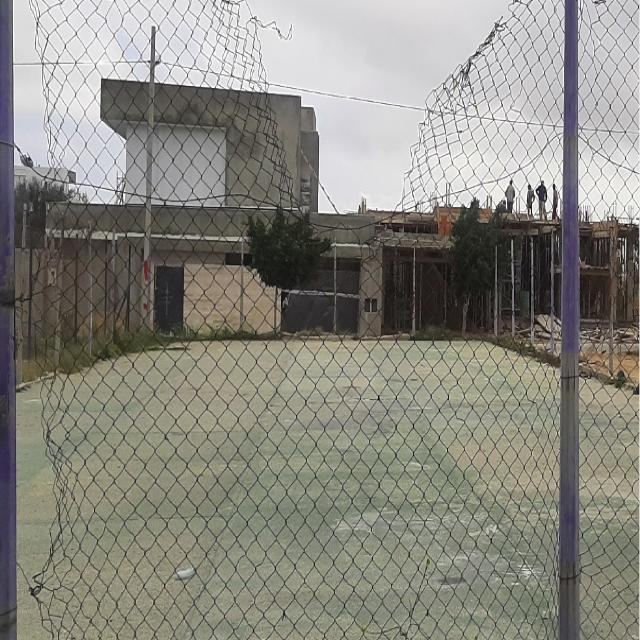fence line: (250, 3, 511, 240), (16, 4, 58, 637)
